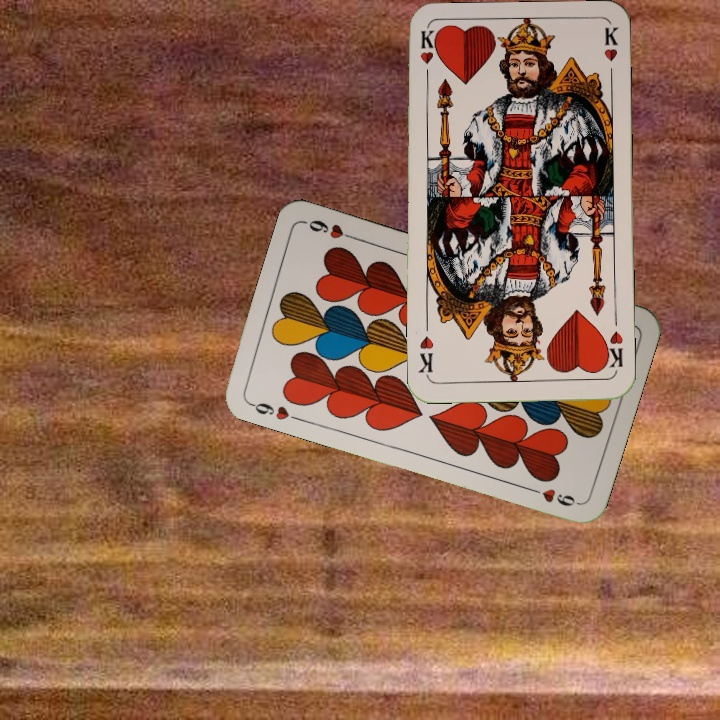H9: (245, 398, 303, 424)
HK: (600, 327, 626, 374), (416, 28, 436, 87)
